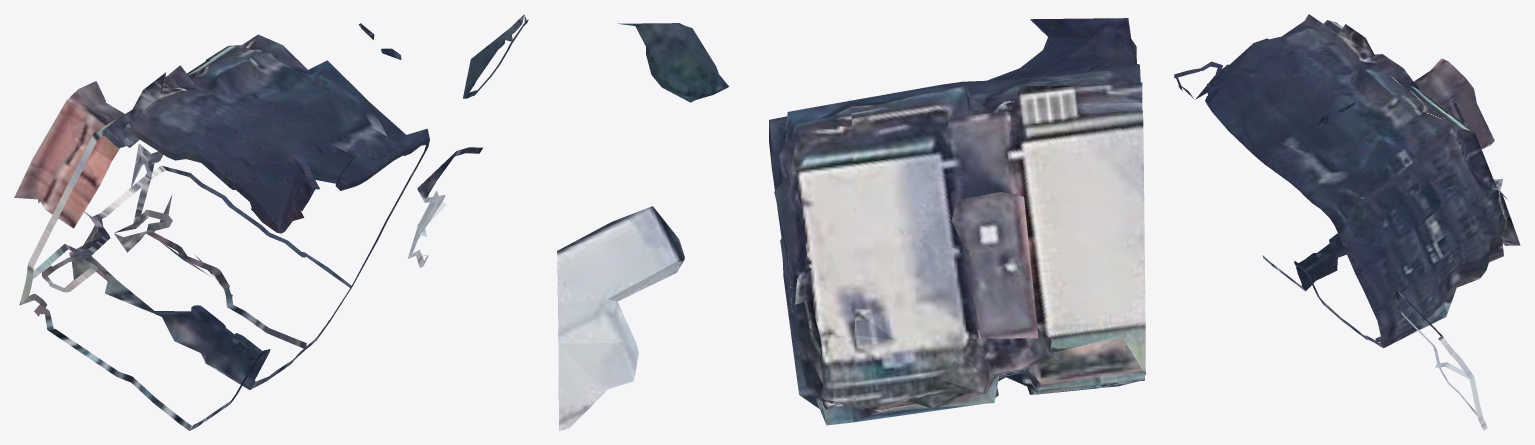
3 renders of one model, left to right at view 1: azimuth 30°, elevation 25°; view 2: azimuth 150°, elevation 25°; view 3: azimuth 270°, elevation 25°, orthographic. The views are drawn at different scales.
Bounding box in the file's own units: 38.32 × 25.24 × 29.37.
Materials: 1 (1 with a texture image).
